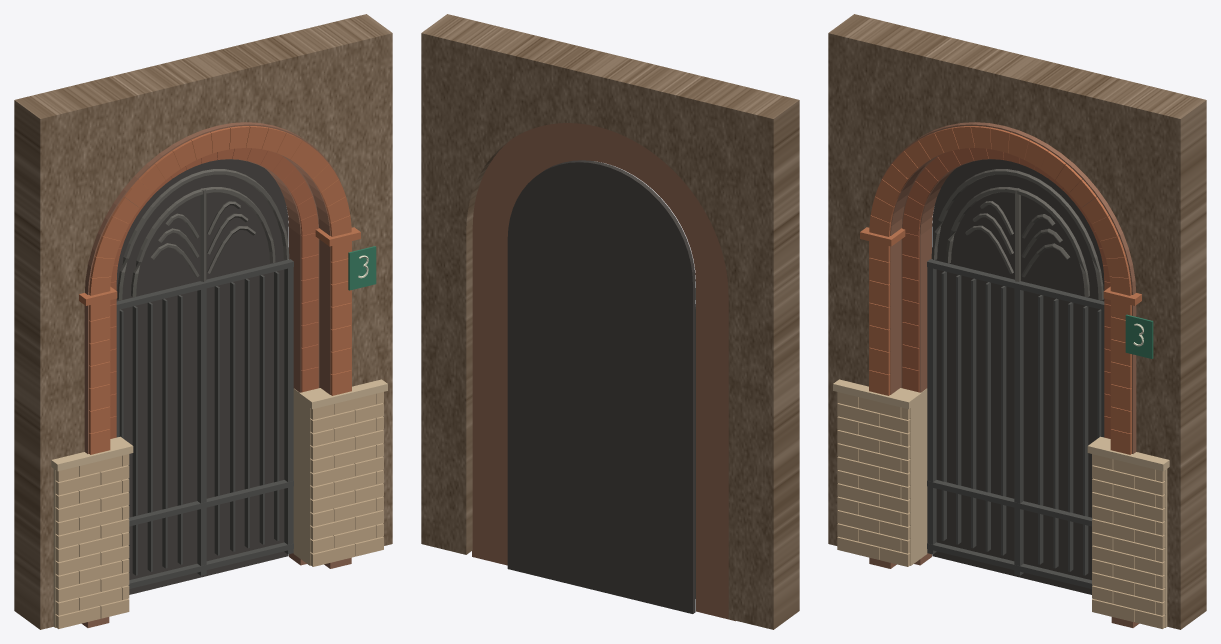
The model's file is huangdu-lane17-no3-arched-street-door-far.glb.
3 renders of one model, left to right at view 1: azimuth 30°, elevation 25°; view 2: azimuth 150°, elevation 25°; view 3: azimuth 330°, elevation 25°, orthographic.
Parts seen in each view (by area): view 1: 黄渡路17弄3号住宅临街双层砖券门; view 2: 黄渡路17弄3号住宅临街双层砖券门; view 3: 黄渡路17弄3号住宅临街双层砖券门.
Part boxes in pixels (x1,y1,x2,y2): 黄渡路17弄3号住宅临街双层砖券门: (14,14,392,629); 黄渡路17弄3号住宅临街双层砖券门: (421,14,799,629); 黄渡路17弄3号住宅临街双层砖券门: (828,14,1206,629).
Size of the model in its own units: 2.18 by 3.06 by 0.354.
11 materials, 1 textured.
